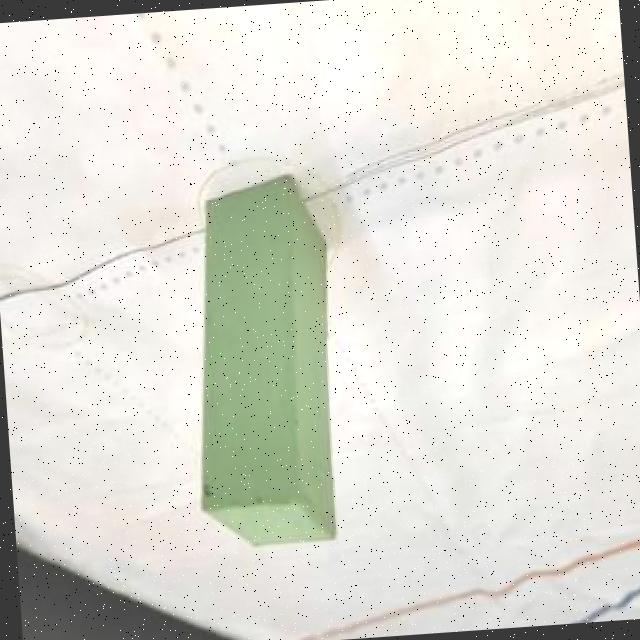greenbox: (178, 167, 358, 552)
